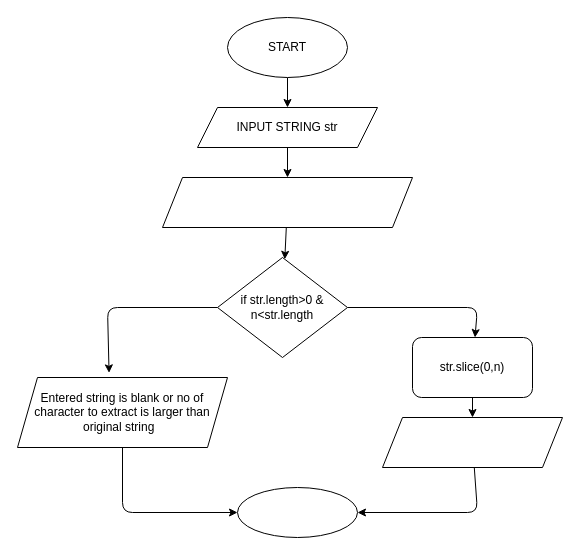
The diagram is 580 pixels wide and 555 high, and some of its shapes have lost their labels. The box of each missing label's shape, as (x1, y1, x2, y2) in pixels:
END: (236, 486, 358, 538)
INPUT No. OF CHARACTER TO EXTRACT n: (162, 176, 412, 228)
print extracted string: (382, 416, 562, 468)
